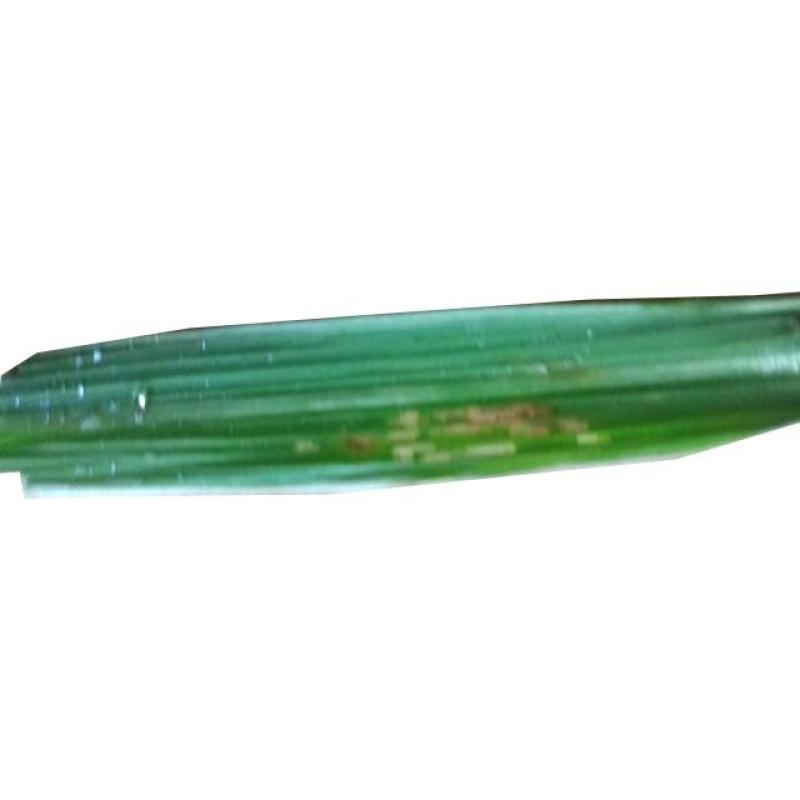Bacterial_Leaf_Blight: (470, 370, 602, 456), (320, 405, 386, 479)
